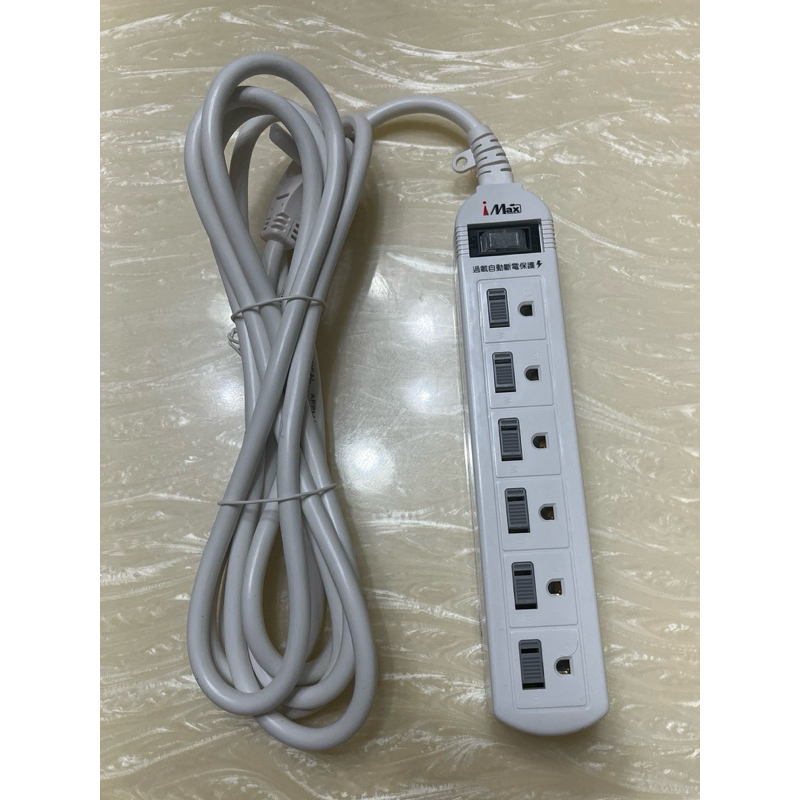socket: (448, 124, 609, 735)
